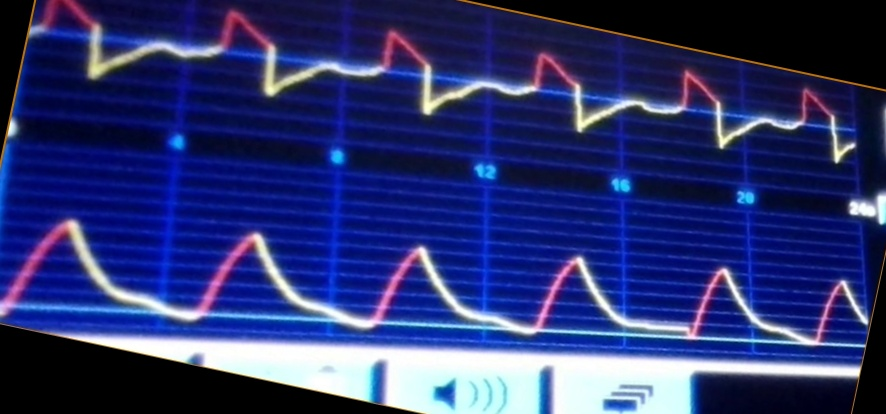Ineffective_effort Flow: (36, 2, 853, 162)
Ineffective_effort Volume: (3, 207, 864, 350)
